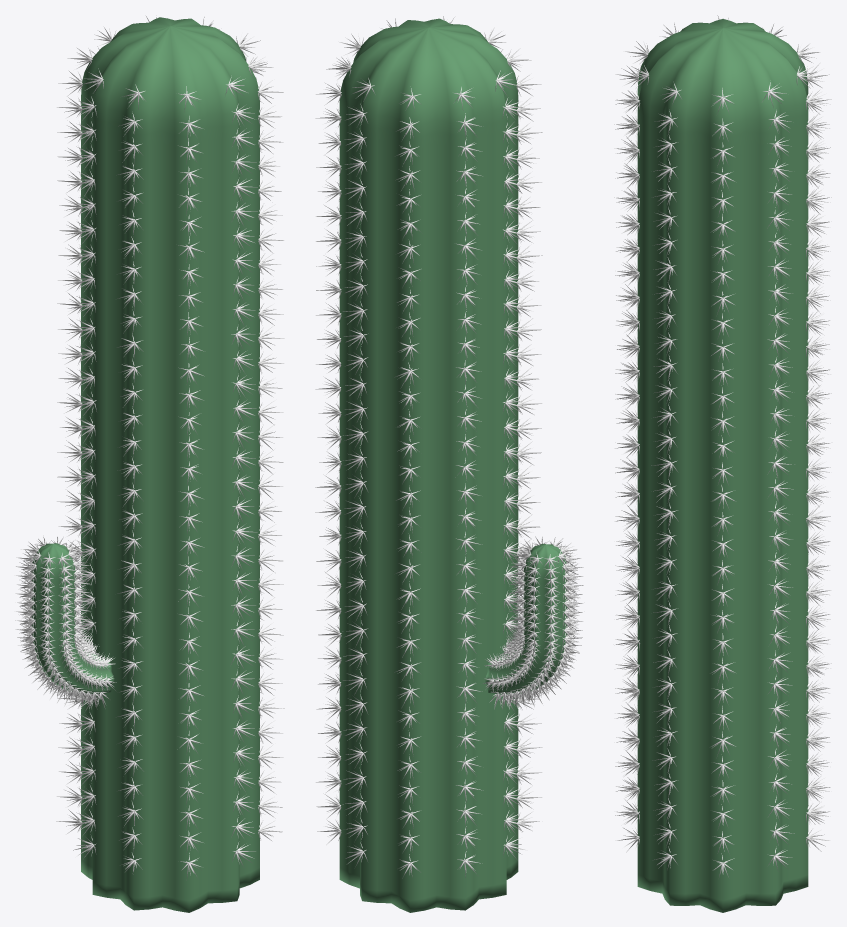
3 views of the same model, side by side, from view 1: azimuth 30°, elevation 25°; view 2: azimuth 150°, elevation 25°; view 3: azimuth 270°, elevation 25° (orthographic).
Parts seen in each view (by area): view 1: main_stem, stem_spine_clusters, arm_spine_clusters, side_arm; view 2: main_stem, stem_spine_clusters, arm_spine_clusters, side_arm; view 3: main_stem, stem_spine_clusters.
Boxes of the visible parts, x1,y1,x2,y2 form: main_stem: (81,17,259,912); stem_spine_clusters: (56,16,284,880); arm_spine_clusters: (15,537,116,709); side_arm: (31,543,114,694); main_stem: (339,18,518,912); stem_spine_clusters: (315,16,542,878); arm_spine_clusters: (483,536,583,709); side_arm: (485,543,567,694); main_stem: (637,19,808,912); stem_spine_clusters: (614,15,831,878).
Size of the model in its own units: 0.7767 by 2.5 by 0.587.
